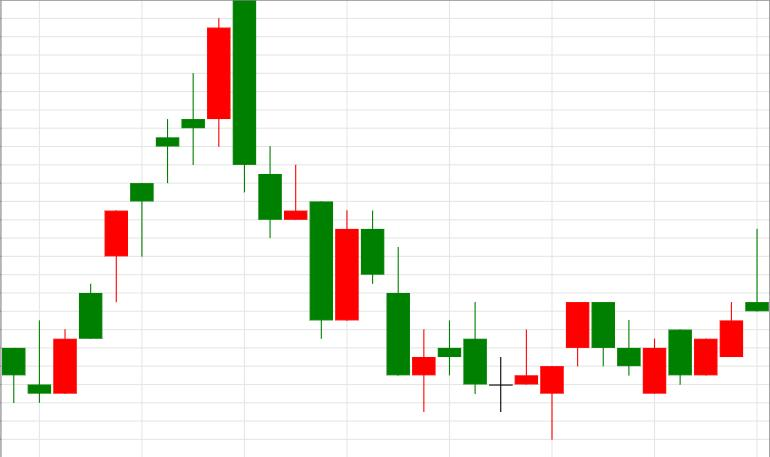bearish_engulfing_fall: (53, 1, 255, 393)
hammer_rise: (362, 211, 564, 441)
